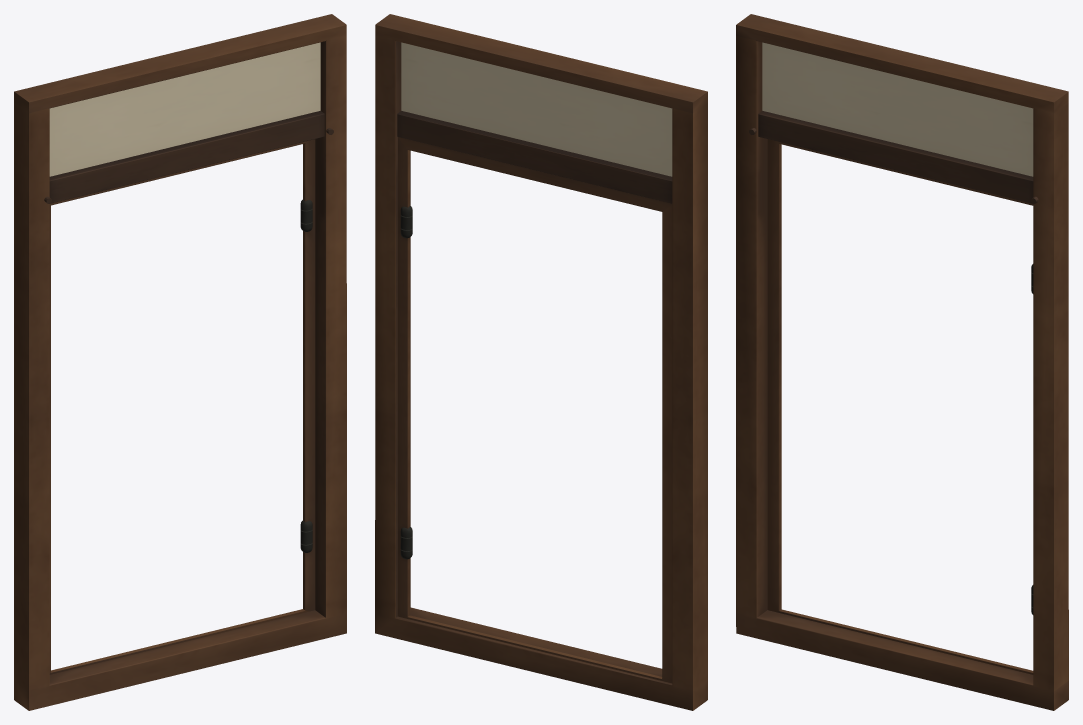
Rendered from BW_Cottage01_EntryFrame.fbx.
The picture shows the model from 3 angles, left to right: view 1: azimuth 30°, elevation 25°; view 2: azimuth 150°, elevation 25°; view 3: azimuth 330°, elevation 25°; orthographic projection.
Parts seen in each view (by area): view 1: BW_Cottage01_EntryFrame; view 2: BW_Cottage01_EntryFrame; view 3: BW_Cottage01_EntryFrame.
Boxes of the visible parts, x1,y1,x2,y2 form: BW_Cottage01_EntryFrame: (14,14,346,710); BW_Cottage01_EntryFrame: (375,14,707,710); BW_Cottage01_EntryFrame: (736,14,1068,710).
Bounding box in the file's own units: 1.64 × 3 × 0.1548.
